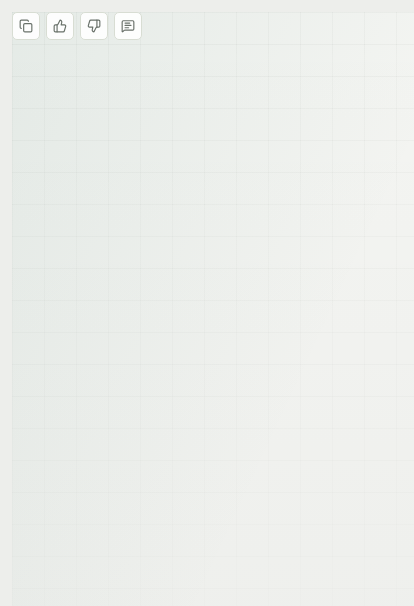
Test: MessageActions › copies assistant message content
Click the button named "复制回答". click: [26, 26]
box: left=12, top=12, right=40, bottom=40
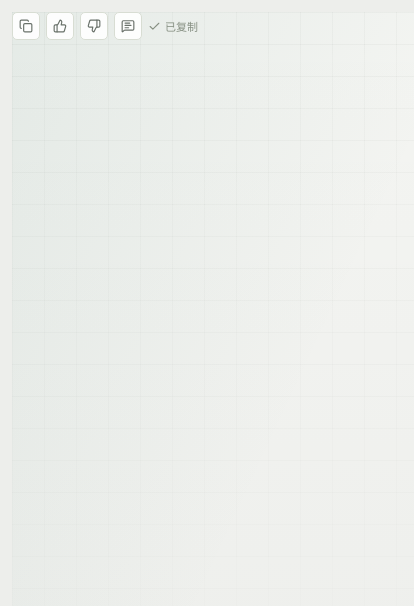
Expected: the text "已复制" is shown, left=148, top=14, right=198, bottom=38
